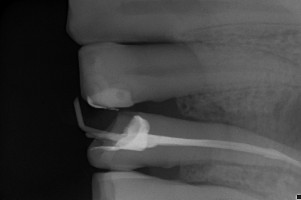Furcation Involvement: (186, 89, 301, 151)
